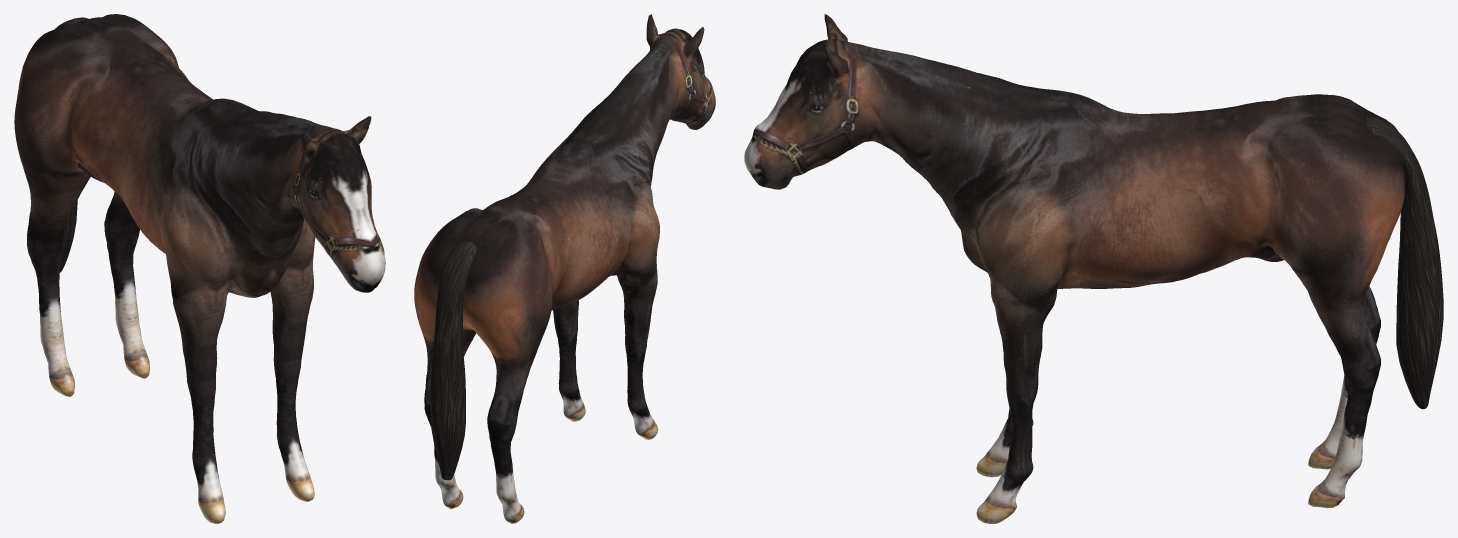
File: horse_free_download.glb
The picture shows the model from 3 angles, left to right: view 1: azimuth 30°, elevation 25°; view 2: azimuth 150°, elevation 25°; view 3: azimuth 270°, elevation 25°; orthographic projection. The views are drawn at different scales.
Parts seen in each view (by area): view 1: Mesh_0.002_Material.001_0, Plane.001; view 2: Mesh_0.002_Material.001_0, Plane.001; view 3: Mesh_0.002_Material.001_0, Plane.001.
Part boxes in pixels (x1,y1,x2,y2): Mesh_0.002_Material.001_0: (14, 14, 385, 523); Plane.001: (54, 17, 88, 272); Mesh_0.002_Material.001_0: (414, 14, 715, 523); Plane.001: (430, 241, 476, 480); Mesh_0.002_Material.001_0: (744, 14, 1404, 523); Plane.001: (1364, 116, 1443, 409).
Bounding box in the file's own units: 2.69 × 7.41 × 9.99.
Materials: 2 (2 with a texture image).
